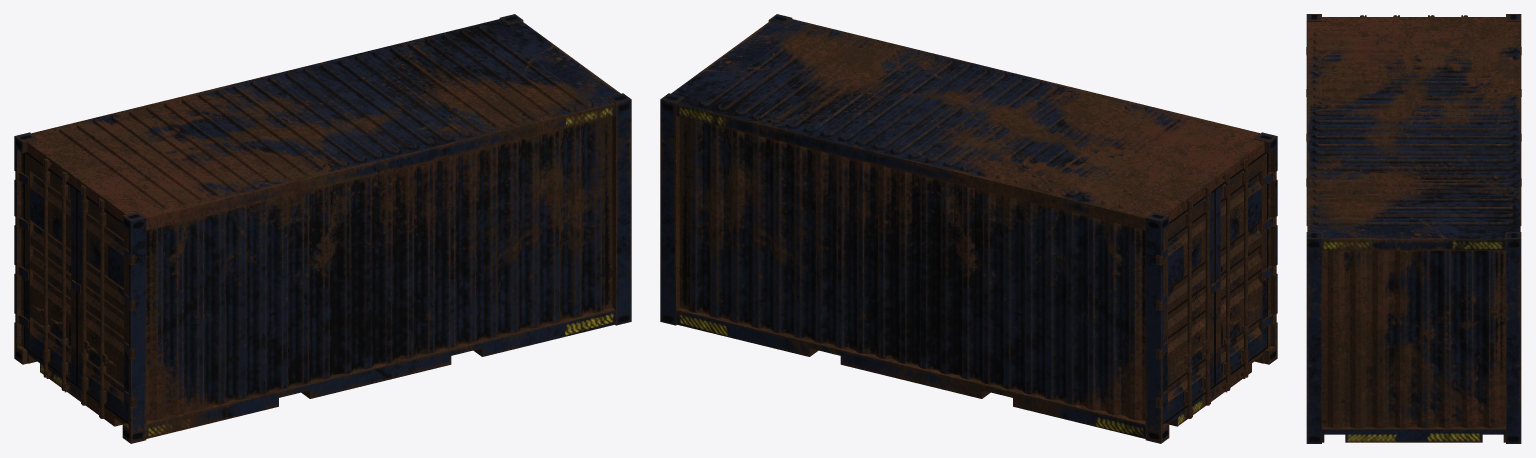
File: cargo_container.glb
3 renders of one model, left to right at view 1: azimuth 30°, elevation 25°; view 2: azimuth 150°, elevation 25°; view 3: azimuth 270°, elevation 25°, orthographic. The views are drawn at different scales.
Parts seen in each view (by area): view 1: Container_Container_0, ContainerDoor_Container_0 (×2); view 2: Container_Container_0, ContainerDoor_Container_0 (×2); view 3: Container_Container_0.
Boxes of the visible parts, bbox=[...] form: Container_Container_0: bbox=[14, 14, 631, 443]; ContainerDoor_Container_0 (×2): bbox=[15, 152, 134, 424]; Container_Container_0: bbox=[660, 14, 1277, 443]; ContainerDoor_Container_0 (×2): bbox=[1157, 152, 1276, 424]; Container_Container_0: bbox=[1306, 14, 1521, 443].
Bounding box in the file's own units: 595 × 253 × 240.
1 material, 1 textured.
